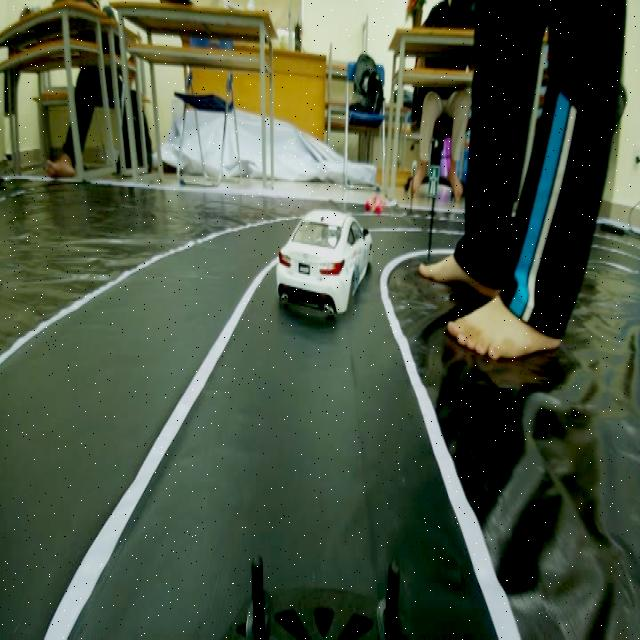car: (276, 191, 364, 335)
highway_entry: (424, 162, 440, 200)
